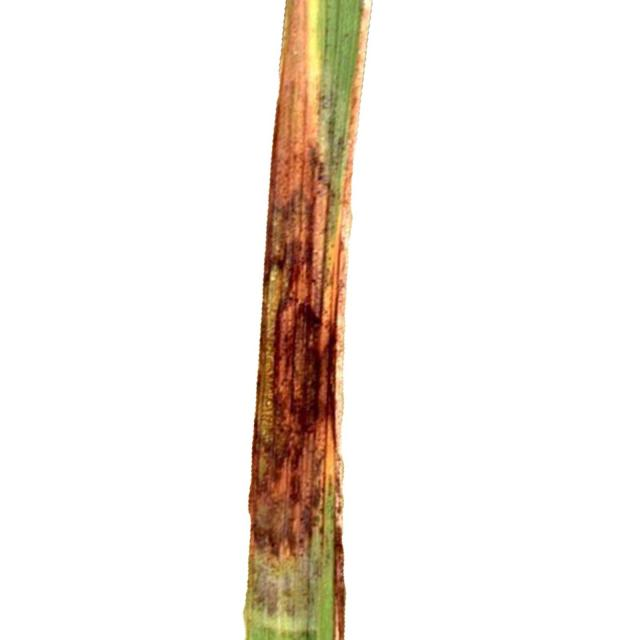Leaf scald: (218, 0, 496, 640)
